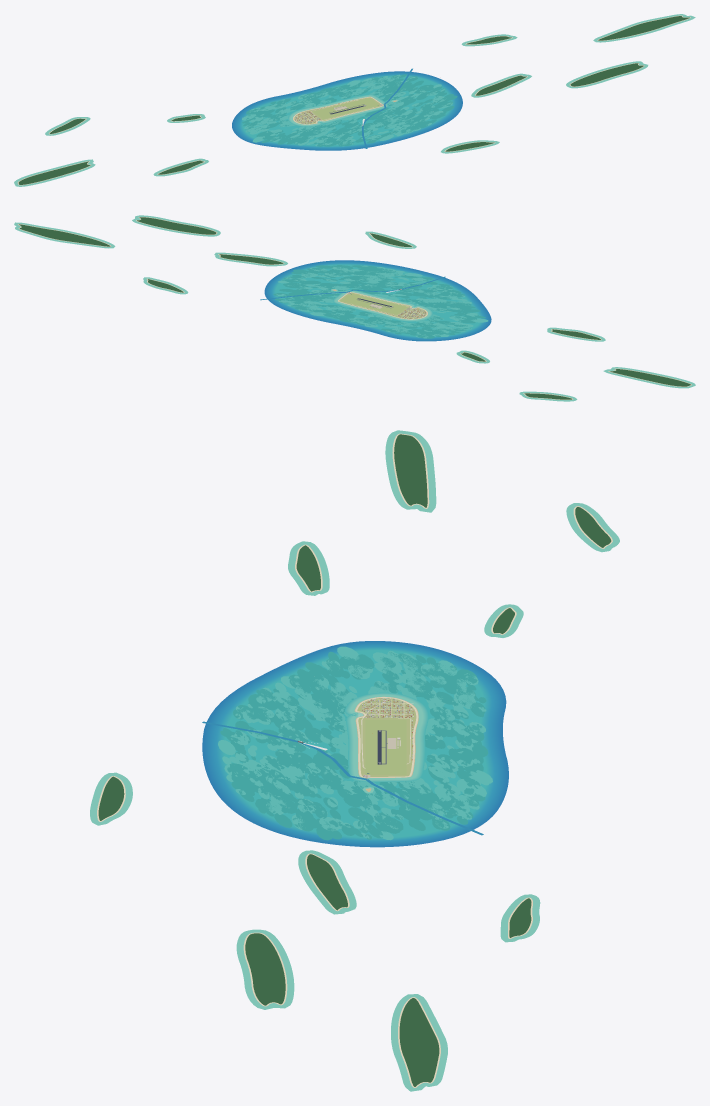
File: land.glb
3 views of the same model, one above another, from view 1: azimuth 30°, elevation 25°; view 2: azimuth 150°, elevation 25°; view 3: azimuth 270°, elevation 25° (orthographic). The views are drawn at different scales.
Visible parts, largest first — view 1: decal-beds, decal-keys-mangrove, decal-flats-edge, decal-keys-halo, decal-flats, decal-keys-sand, decal-shoal, decal-airport, decal-isl-ground; view 2: decal-beds, decal-keys-mangrove, decal-flats-edge, decal-keys-halo, decal-flats, decal-keys-sand, decal-shoal, decal-airport, decal-isl-ground; view 3: decal-beds, decal-keys-mangrove, decal-flats-edge, decal-keys-halo, decal-flats, decal-keys-sand, decal-shoal, decal-airport, decal-isl-ground.
Part boxes in pixels (bbox=[...]): decal-beds: bbox=[242, 74, 457, 146]; decal-keys-mangrove: bbox=[18, 16, 689, 184]; decal-flats-edge: bbox=[232, 71, 462, 150]; decal-keys-halo: bbox=[14, 14, 695, 186]; decal-flats: bbox=[243, 76, 451, 145]; decal-keys-sand: bbox=[17, 15, 690, 185]; decal-shoal: bbox=[288, 94, 388, 126]; decal-airport: bbox=[313, 98, 379, 119]; decal-isl-ground: bbox=[294, 97, 381, 124]; decal-beds: bbox=[273, 265, 488, 338]; decal-keys-mangrove: bbox=[19, 217, 690, 399]; decal-flats-edge: bbox=[264, 260, 491, 341]; decal-keys-halo: bbox=[14, 215, 695, 401]; decal-flats: bbox=[275, 265, 480, 336]; decal-keys-sand: bbox=[18, 217, 691, 399]; decal-shoal: bbox=[333, 290, 432, 321]; decal-airport: bbox=[341, 293, 406, 314]; decal-isl-ground: bbox=[339, 292, 426, 318]; decal-beds: bbox=[218, 646, 492, 840]; decal-keys-mangrove: bbox=[98, 434, 611, 1086]; decal-flats-edge: bbox=[202, 641, 508, 847]; decal-keys-halo: bbox=[90, 430, 619, 1091]; decal-flats: bbox=[224, 650, 486, 837]; decal-keys-sand: bbox=[97, 433, 612, 1087]; decal-shoal: bbox=[344, 692, 428, 782]; decal-airport: bbox=[365, 720, 406, 774]; decal-isl-ground: bbox=[357, 698, 416, 776].
Size of the model in its own units: 57498 by 74 by 19473.
